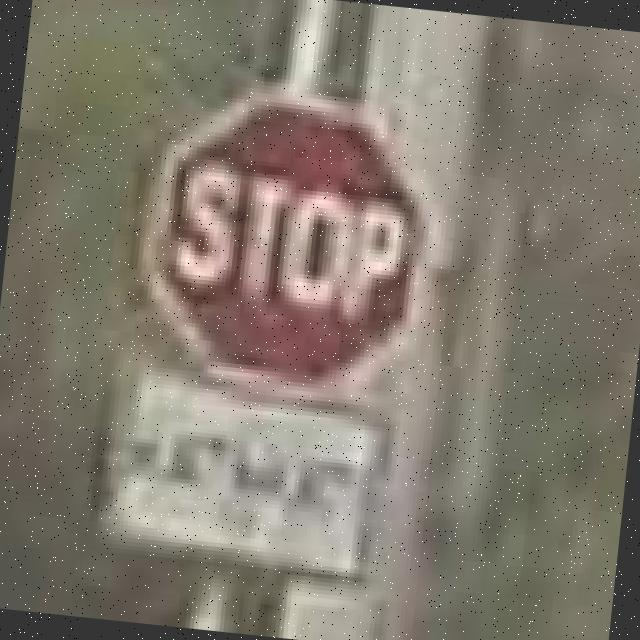Stop: (134, 98, 426, 400)
